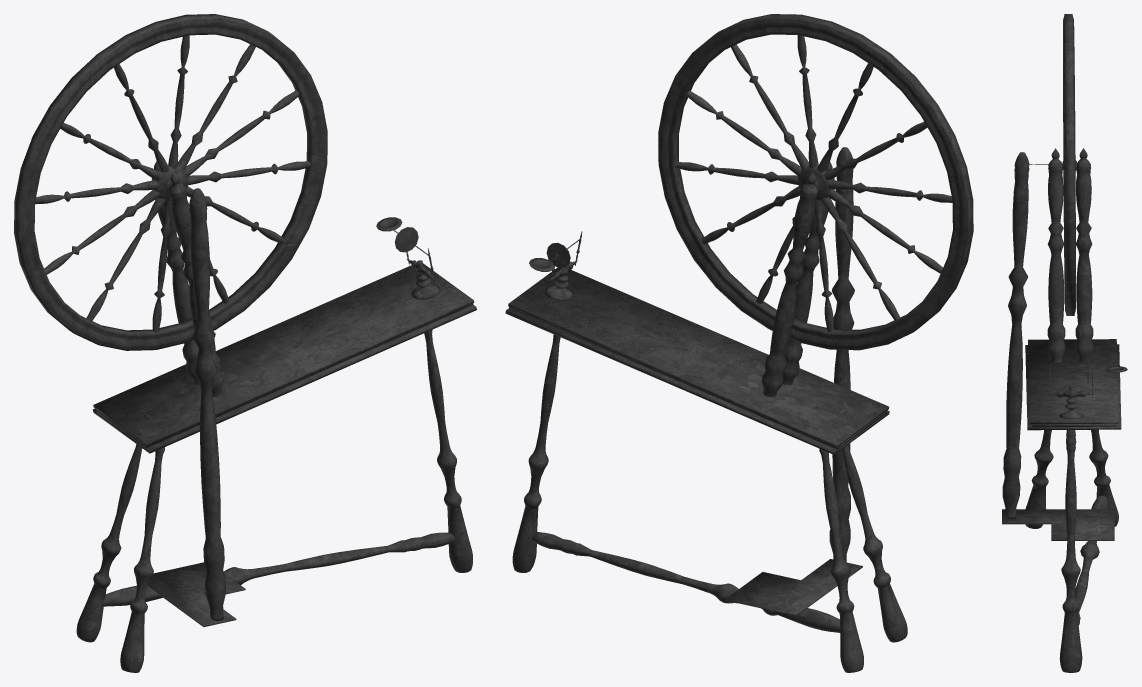
Rendered from f_spindle.fbx.
The picture shows the model from 3 angles, left to right: view 1: azimuth 30°, elevation 25°; view 2: azimuth 150°, elevation 25°; view 3: azimuth 270°, elevation 25°; orthographic projection. The views are drawn at different scales.
Visible parts, largest first — view 1: Circle; view 2: Circle; view 3: Circle.
Boxes of the visible parts, x1,y1,x2,y2 form: Circle: [14, 14, 476, 672]; Circle: [505, 14, 973, 672]; Circle: [1002, 14, 1127, 672].
Size of the model in its own units: 313 by 408 by 88.96.
